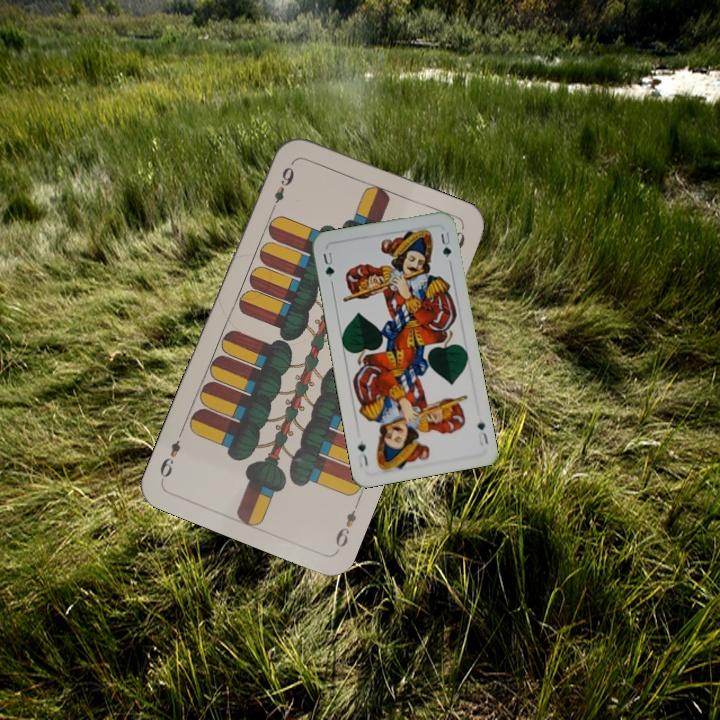E9: (331, 497, 362, 551), (266, 162, 297, 214)
GU: (319, 248, 337, 280), (473, 418, 491, 449)
